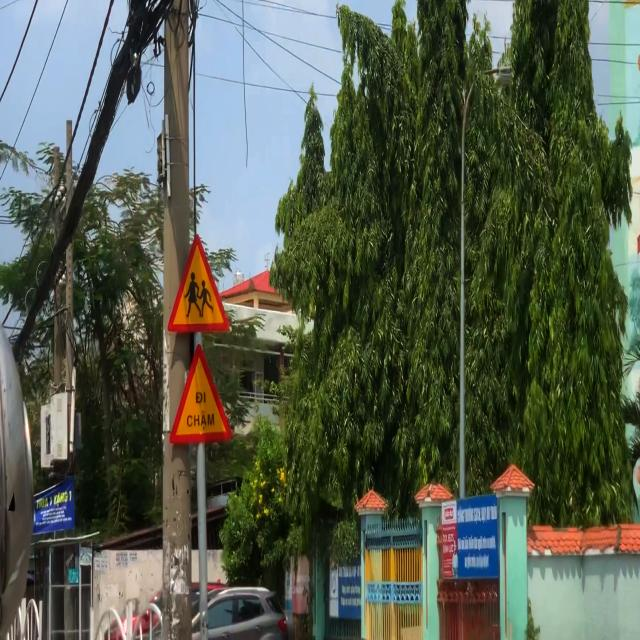Nguy hiem: (167, 341, 235, 450), (167, 229, 231, 338)
